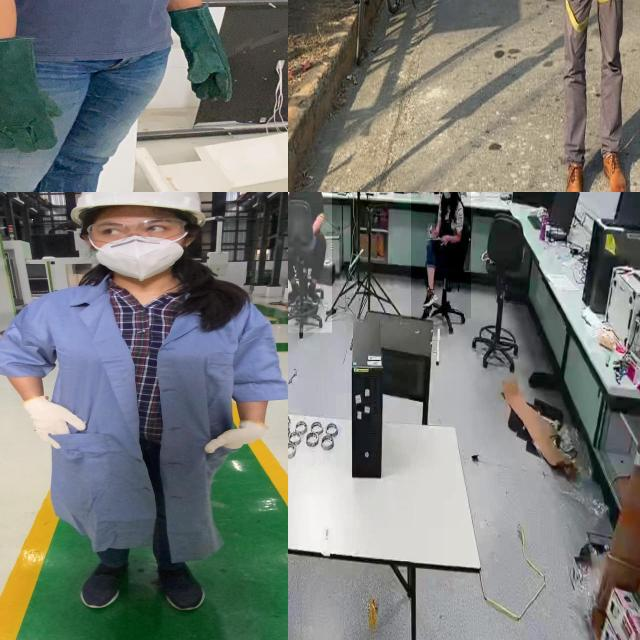face_mask: (86, 217, 186, 279), (440, 192, 457, 199)
glasses: (77, 217, 193, 244)
hand_glove: (0, 31, 75, 155), (158, 4, 242, 105), (20, 397, 90, 447), (200, 420, 266, 454)
hand_noglove: (428, 224, 440, 238), (438, 232, 450, 246)
head_helmet: (59, 192, 211, 217)
person: (0, 192, 288, 617), (0, 0, 253, 192), (410, 192, 471, 319), (288, 192, 332, 333)
shoes: (144, 557, 213, 613), (73, 556, 133, 610), (421, 281, 439, 311), (305, 280, 321, 308), (288, 280, 301, 308)
